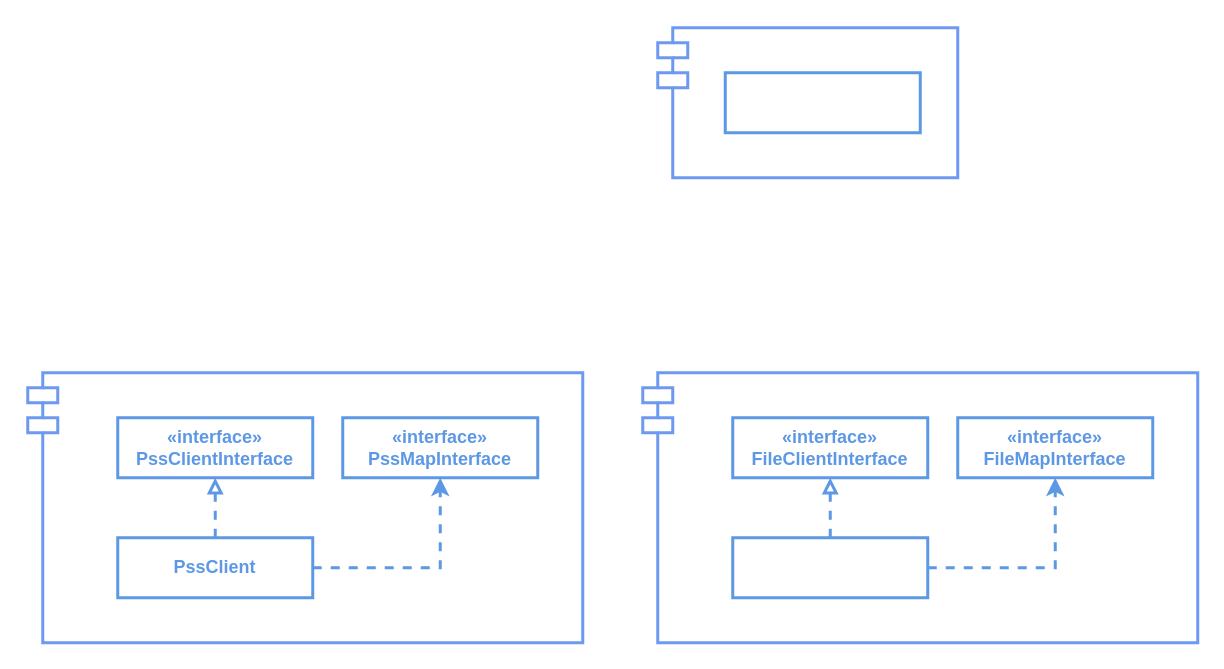
This 1224x669 diagram has some shape labels left out. Here are the shapes that lost their labels. From the top down, the centre of each, then its label:
At point 822,102: "FilePlugin".
At point 829,567: "FileClient".
